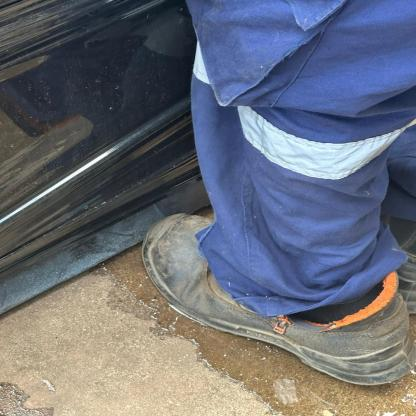bota: (133, 199, 416, 393)
